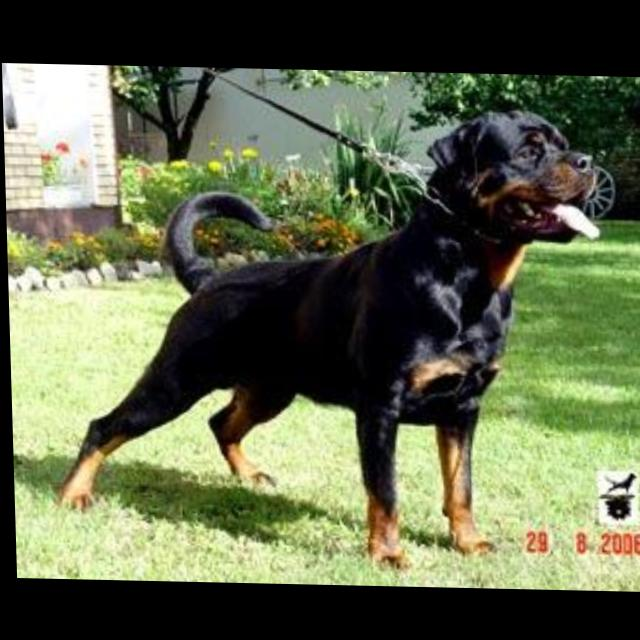rottweiler: (44, 96, 609, 571)
